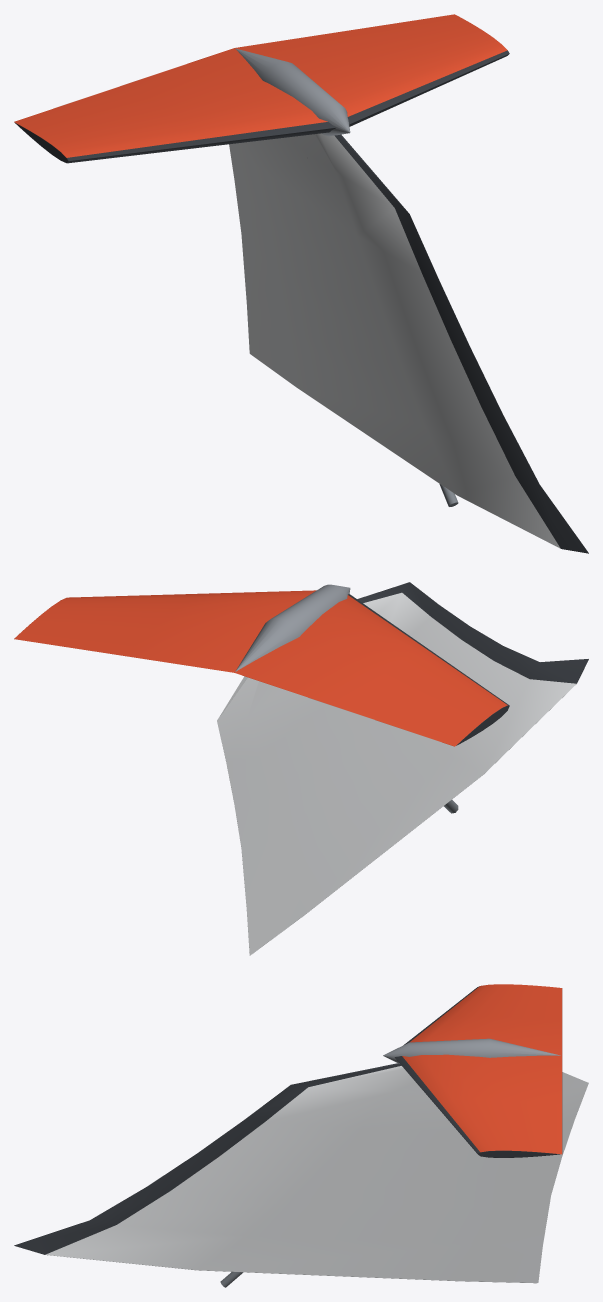
The model's file is vortex_tail_lg.fbx.
3 views of the same model, one above another, from view 1: azimuth 30°, elevation 25°; view 2: azimuth 150°, elevation 25°; view 3: azimuth 270°, elevation 25° (orthographic). The views are drawn at different scales.
Visible parts, largest first — view 1: Tail_T; view 2: Tail_T; view 3: Tail_T.
Part boxes in pixels (box(x1,y1,x2,y2)): Tail_T: box(14, 14, 588, 553); Tail_T: box(14, 582, 588, 955); Tail_T: box(14, 984, 588, 1287).
Size of the model in its own units: 82.8 by 57.34 by 121.
